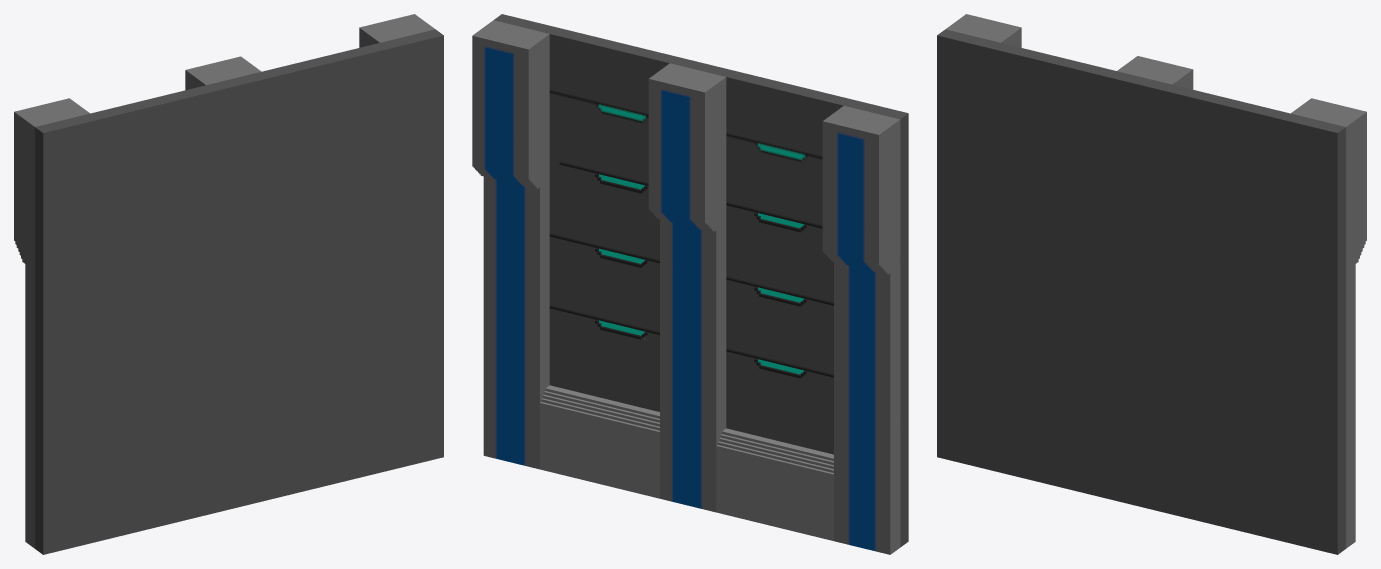
The model's file is Lab-10-Wall.fbx.
The picture shows the model from 3 angles, left to right: view 1: azimuth 30°, elevation 25°; view 2: azimuth 150°, elevation 25°; view 3: azimuth 330°, elevation 25°; orthographic projection.
Visible parts, largest first — view 1: Wall; view 2: Wall; view 3: Wall.
Boxes of the visible parts, box(x1,y1,x2,y2) form: Wall: box(14, 14, 443, 554); Wall: box(472, 14, 908, 554); Wall: box(937, 14, 1366, 554).
Bounding box in the file's own units: 166 × 167 × 21.
